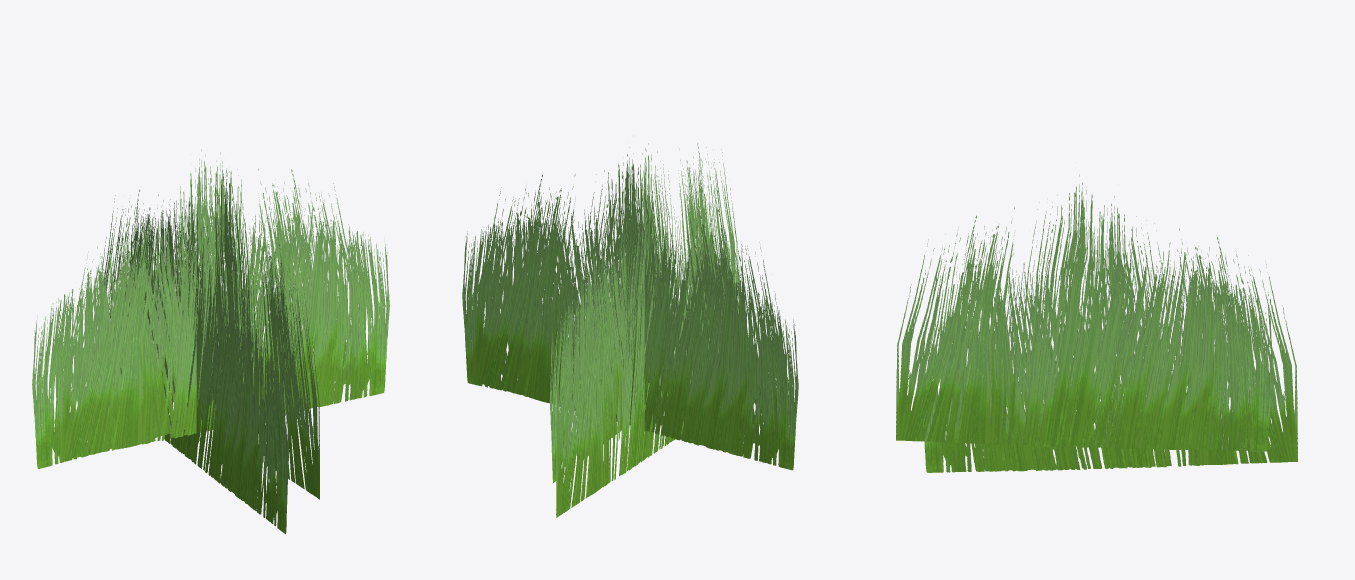
The model's file is grass.fbx.
The picture shows the model from 3 angles, left to right: view 1: azimuth 30°, elevation 25°; view 2: azimuth 150°, elevation 25°; view 3: azimuth 270°, elevation 25°; orthographic projection.
Visible parts, largest first — view 1: wwww2; view 2: wwww2; view 3: wwww2.
Part boxes in pixels (x1,y1,x2,y2): wwww2: [32, 149, 389, 534]; wwww2: [462, 143, 798, 517]; wwww2: [896, 174, 1297, 472].
Size of the model in its own units: 1 by 1.04 by 1.11.
1 material, 1 textured.
